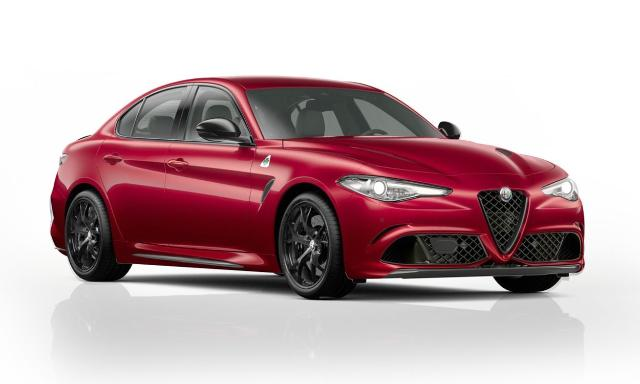alpha-romeo: (48, 75, 586, 301)
